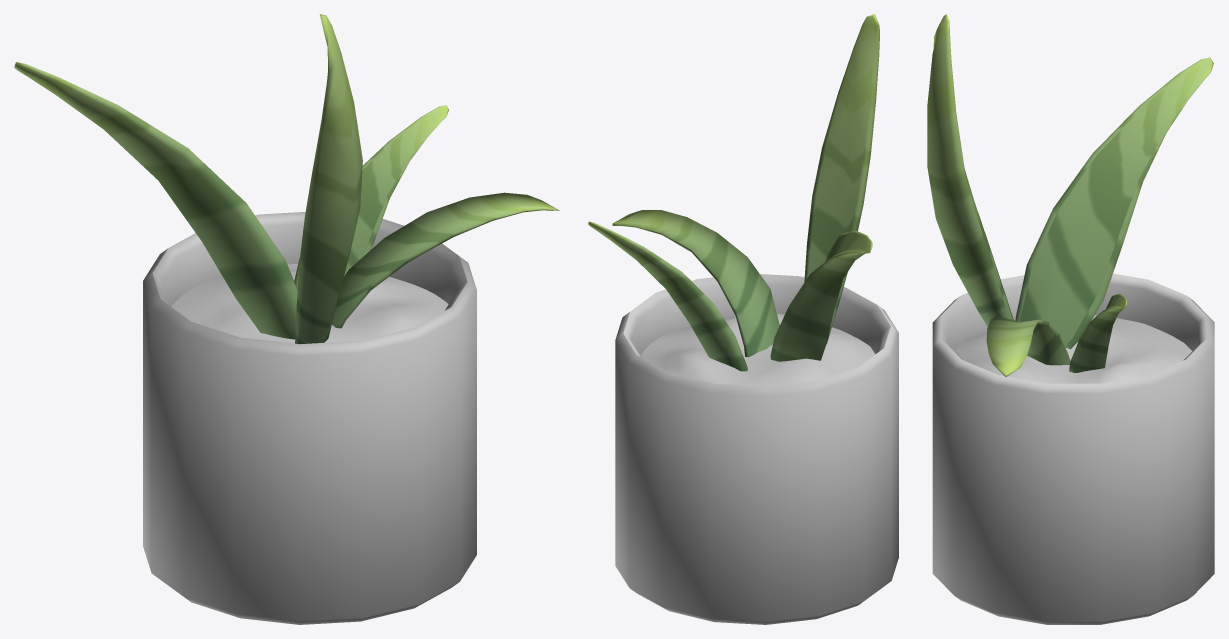
File: mesh_plant_reexport_001.fbx
The picture shows the model from 3 angles, left to right: view 1: azimuth 30°, elevation 25°; view 2: azimuth 150°, elevation 25°; view 3: azimuth 270°, elevation 25°; orthographic projection. The views are drawn at different scales.
Parts seen in each view (by area): view 1: plant_LOD0; view 2: plant_LOD0; view 3: plant_LOD0.
Boxes of the visible parts, box(x1,y1,x2,y2) form: plant_LOD0: box(14, 14, 559, 624); plant_LOD0: box(588, 14, 898, 624); plant_LOD0: box(927, 14, 1214, 624).
Bounding box in the file's own units: 45.25 × 62.49 × 30.86.
